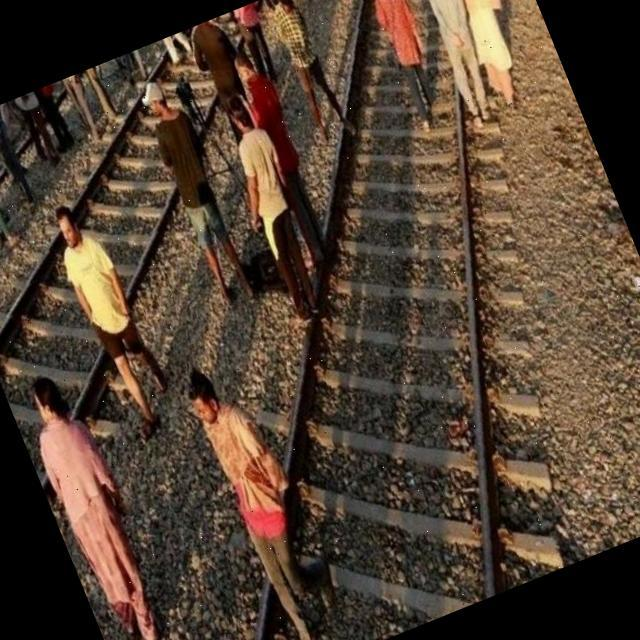person: (176, 350, 355, 640), (6, 359, 181, 640), (34, 189, 190, 452), (130, 68, 266, 317), (204, 90, 342, 330), (227, 39, 347, 276), (261, 0, 360, 151), (402, 0, 512, 130), (352, 0, 457, 133), (435, 0, 540, 112), (0, 115, 25, 259), (517, 30, 518, 30)
